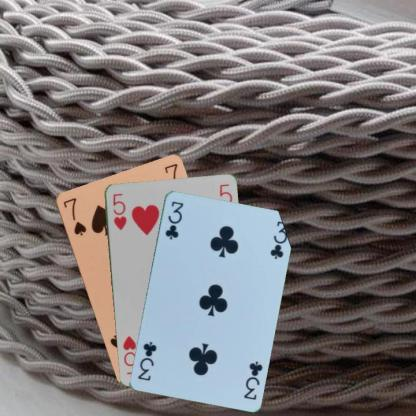3c: (240, 358, 263, 401), (162, 198, 184, 240)
5h: (110, 190, 127, 231)
7s: (60, 195, 88, 237)
